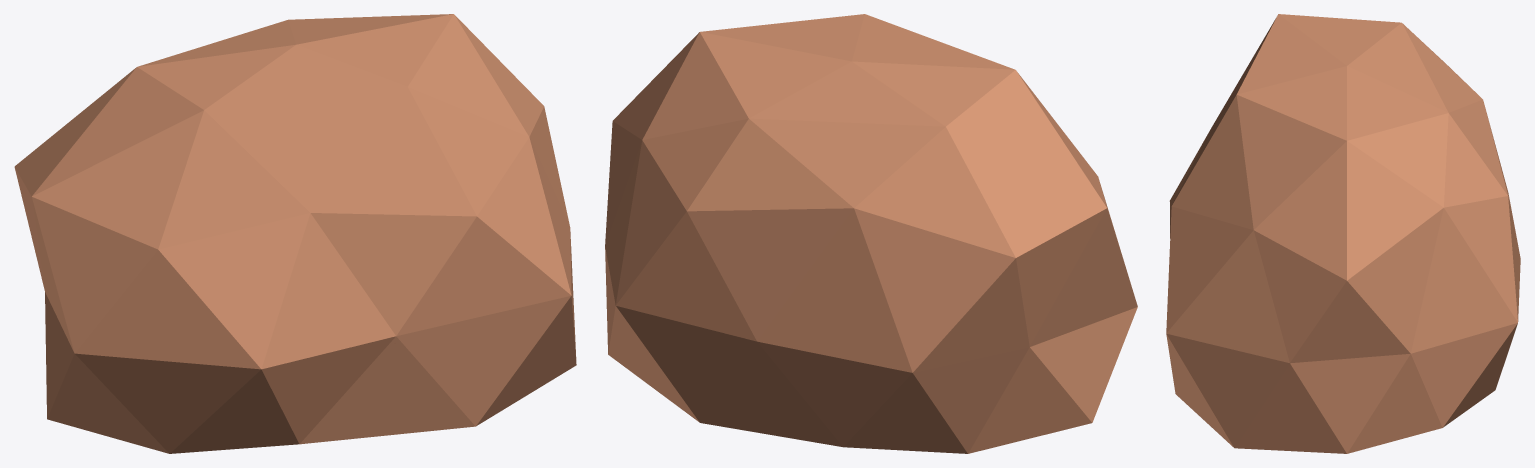
File: Rock_05.glb
3 views of the same model, side by side, from view 1: azimuth 30°, elevation 25°; view 2: azimuth 150°, elevation 25°; view 3: azimuth 270°, elevation 25° (orthographic). The views are drawn at different scales.
Parts seen in each view (by area): view 1: Eroded Mars boulder.004; view 2: Eroded Mars boulder.004; view 3: Eroded Mars boulder.004.
Part boxes in pixels (x1,y1,x2,y2): Eroded Mars boulder.004: (14, 14, 576, 453); Eroded Mars boulder.004: (605, 14, 1137, 453); Eroded Mars boulder.004: (1166, 14, 1520, 453).
Bounding box in the file's own units: 2.4 × 1.48 × 1.63.
